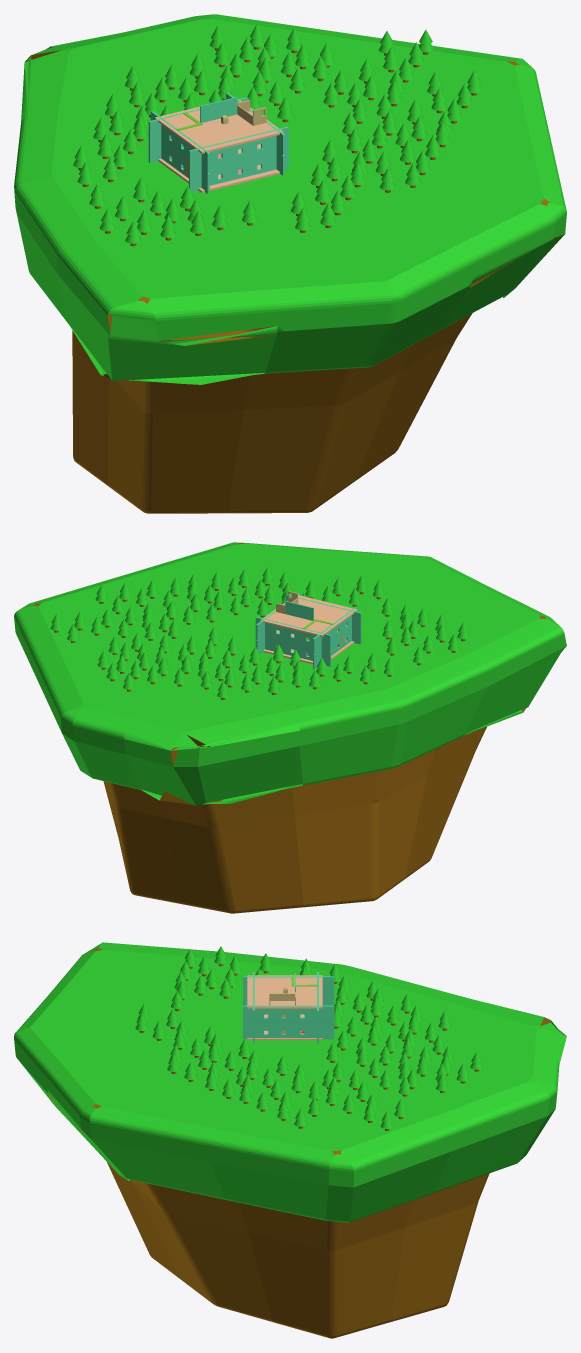
The model's file is Map Model1.glb.
3 renders of one model, top to bottom at view 1: azimuth 30°, elevation 25°; view 2: azimuth 150°, elevation 25°; view 3: azimuth 270°, elevation 25°, orthographic. The views are drawn at different scales.
Parts seen in each view (by area): view 1: Cube.018, Cube.052, Cube, Cube.041, Cube.042, Cube.004, Cube.048, Cube.001; view 2: Cube.018, Cube.052, Cube.043, Cube.002, Cube.042; view 3: Cube.018, Cube.052, Cube.013, Cube.003.
Boxes of the visible parts, x1,y1,x2,y2 form: Cube.018: (14, 14, 566, 513); Cube.052: (155, 98, 283, 153); Cube: (189, 148, 288, 191); Cube.041: (189, 126, 288, 171); Cube.042: (150, 111, 209, 173); Cube.004: (161, 140, 209, 193); Cube.048: (200, 97, 237, 122); Cube.001: (158, 158, 279, 192); Cube.018: (14, 542, 566, 913); Cube.052: (260, 595, 357, 636); Cube.043: (255, 617, 331, 650); Cube.002: (255, 633, 331, 666); Cube.042: (313, 607, 357, 653); Cube.018: (14, 942, 566, 1338); Cube.052: (247, 975, 322, 1008); Cube.013: (243, 1005, 334, 1022); Cube.003: (243, 1022, 334, 1039).
Size of the model in its own units: 375 by 217 by 392.
